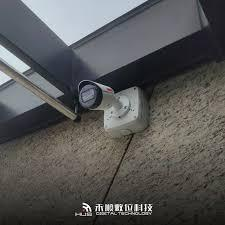Monitor: (70, 67, 152, 143)
